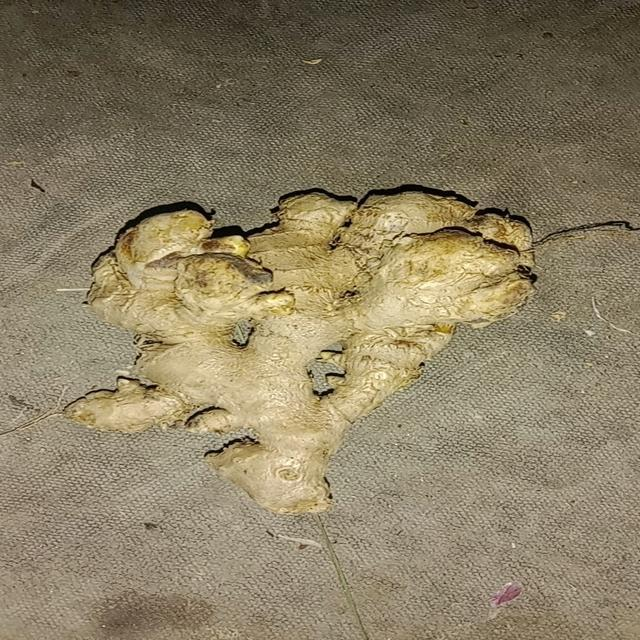ginger: (80, 188, 535, 524)
